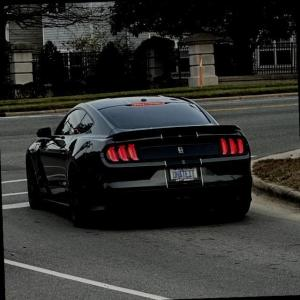Plate: (168, 165, 199, 182)
